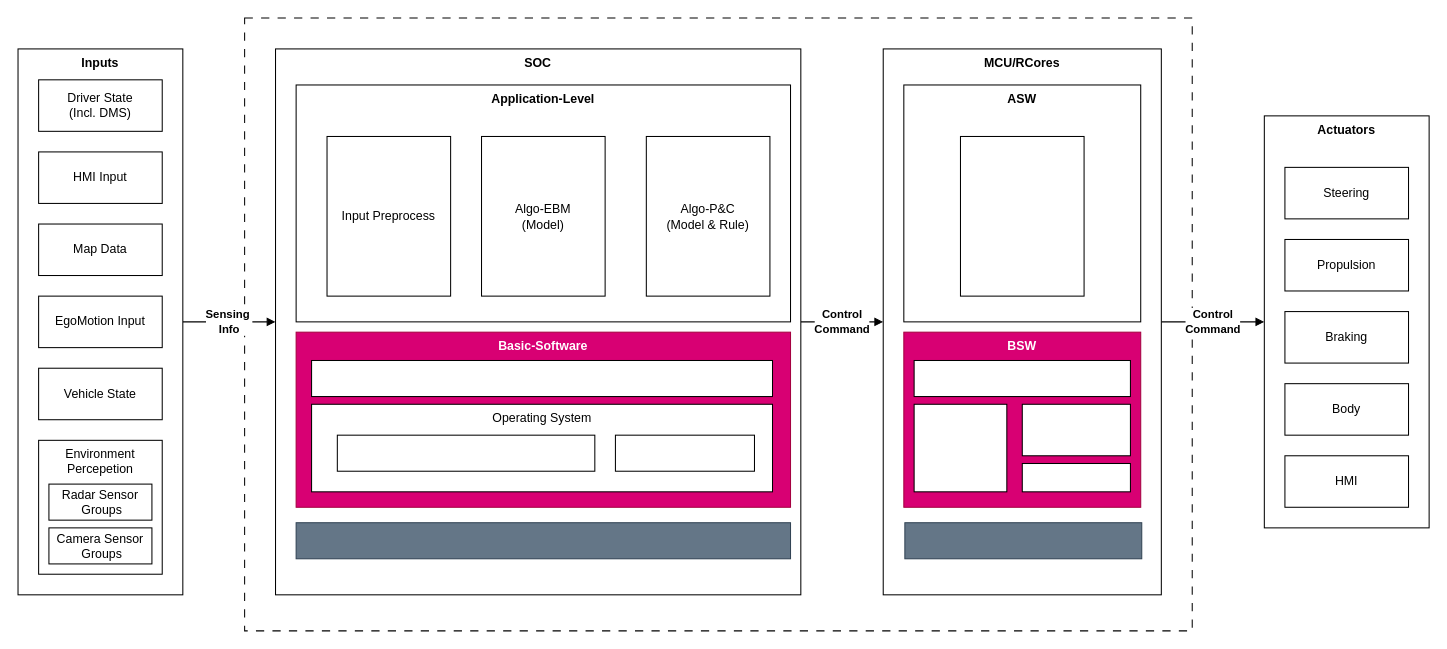
Image size: 1447x649. Some labels were removed from this diagram. The shapes that lost their labels are listed below. From the top down, each one's centre as x and y in pixels, then its label:
At (1021,215): "Arbitrator & Validator & ComToVehicle".
At (541,378): "MiddleWare".
At (1021,378): "RTE".
At (960,447): "OS".
At (1075,429): "BSW Service".
At (465,452): "BSP (Board Support Packages)".
At (684,452): "Chip Supported SDK".
At (1075,477): "MCAL".
At (543,540): "SOC Hardware".
At (1023,540): "MCU/RCores Hardware".
